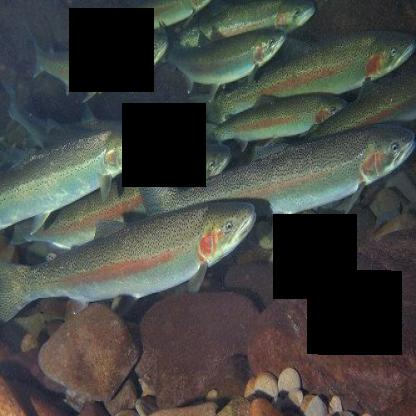fish: (0, 198, 256, 329), (136, 123, 414, 240), (30, 26, 170, 100), (154, 26, 286, 98), (194, 88, 348, 148), (180, 0, 316, 61)
